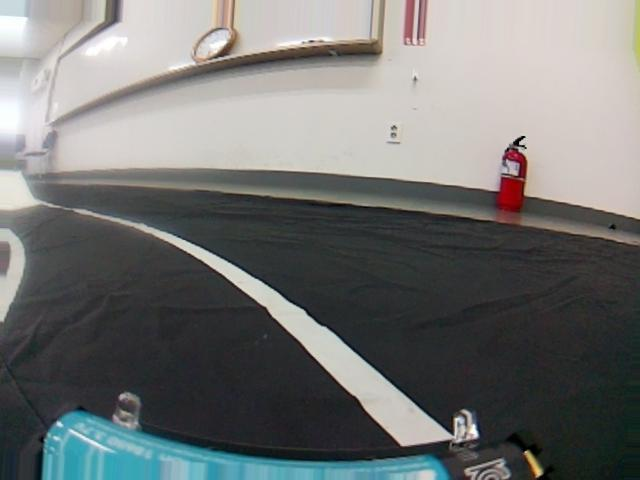left: (0, 232, 627, 475)
